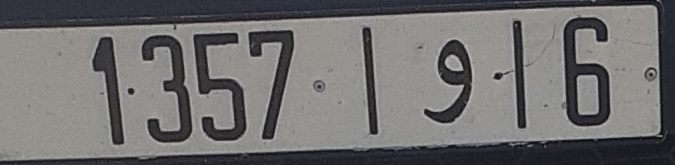1: (89, 33, 127, 147)
3: (137, 31, 194, 146)
5: (192, 30, 248, 143)
6: (559, 14, 614, 130)
7: (246, 29, 297, 140)
waw: (421, 34, 475, 127)
